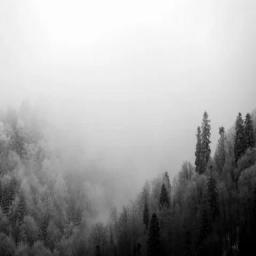Heavy smoke: (10, 4, 255, 132)
Low smoke: (16, 140, 140, 236)
